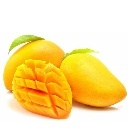mango: (58, 53, 128, 108), (13, 58, 72, 119)
